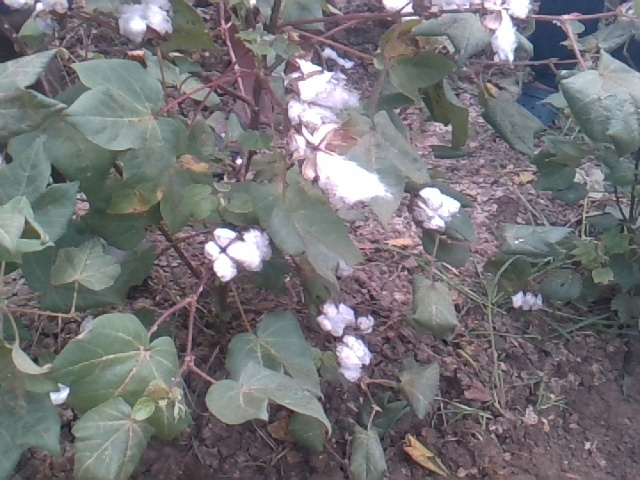cotton: (294, 124, 388, 206), (285, 71, 362, 125), (201, 224, 251, 285), (413, 187, 463, 232), (118, 2, 174, 42), (485, 7, 520, 68), (334, 339, 374, 384), (315, 299, 357, 341), (244, 222, 275, 260), (511, 287, 546, 313), (357, 314, 377, 335)
